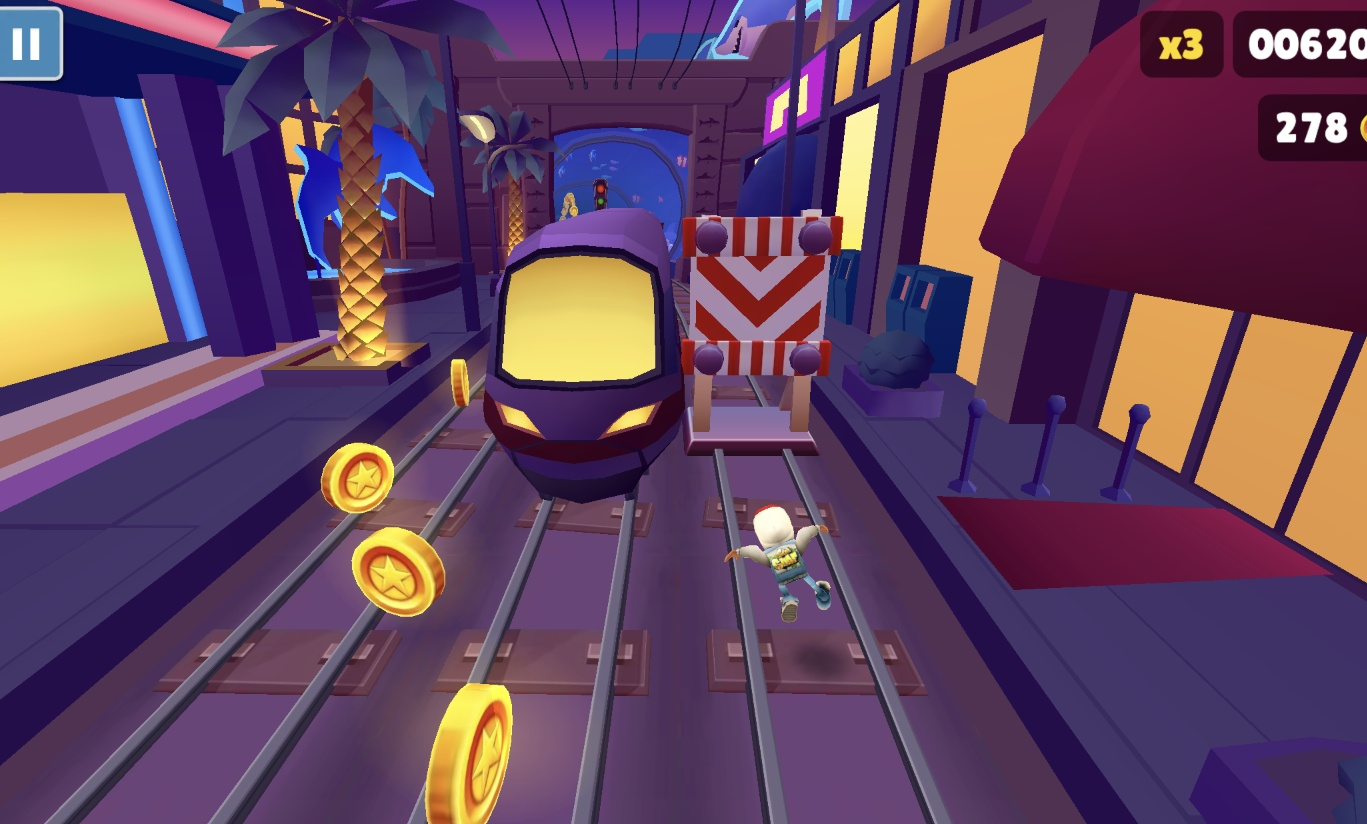overhead_barrier: (682, 213, 845, 459)
train: (484, 207, 686, 501)
